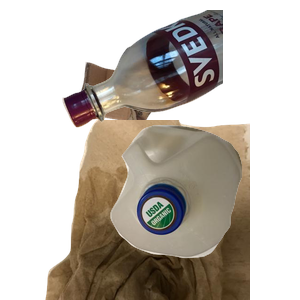cardboard: (75, 59, 237, 176)
glass: (60, 10, 300, 130)
plastic: (108, 123, 300, 300)
trash: (43, 120, 283, 300)
